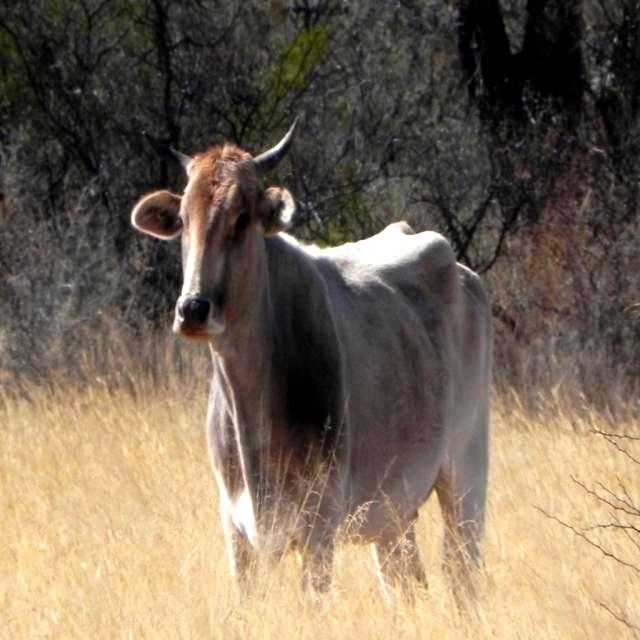COW: (131, 126, 490, 591)
